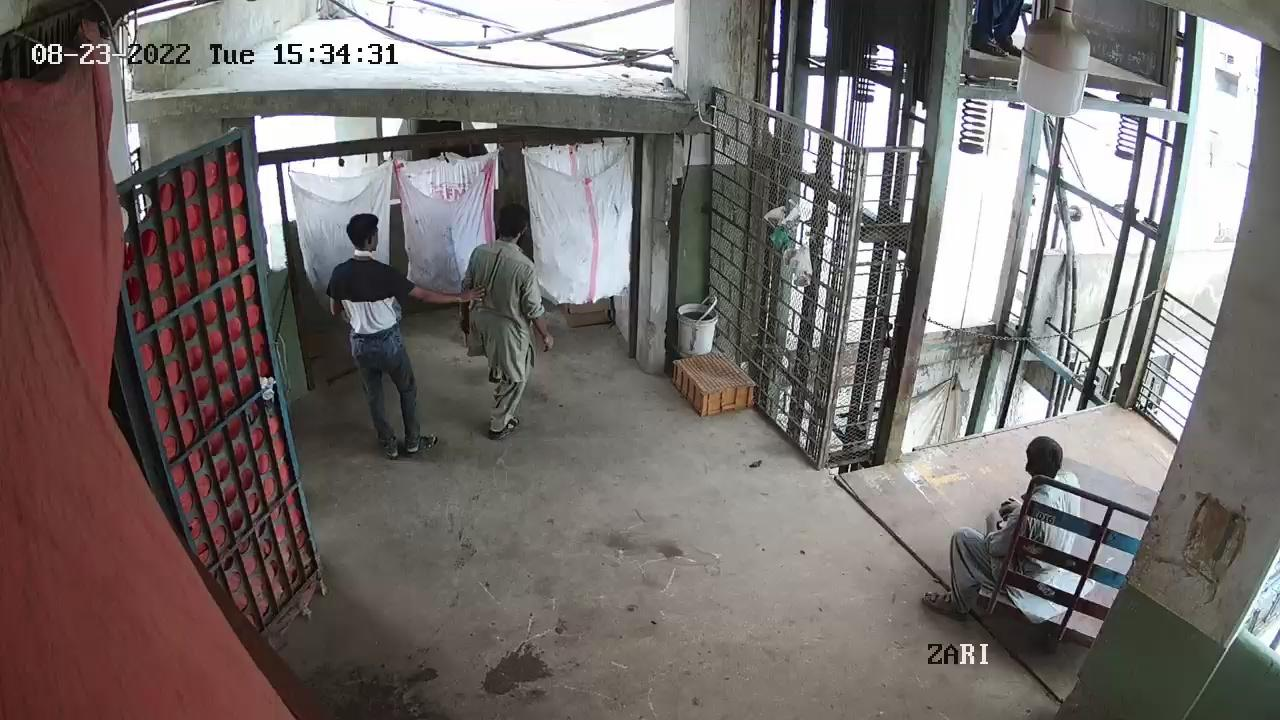person: (950, 441, 1087, 619), (326, 213, 422, 462), (464, 214, 545, 435)
